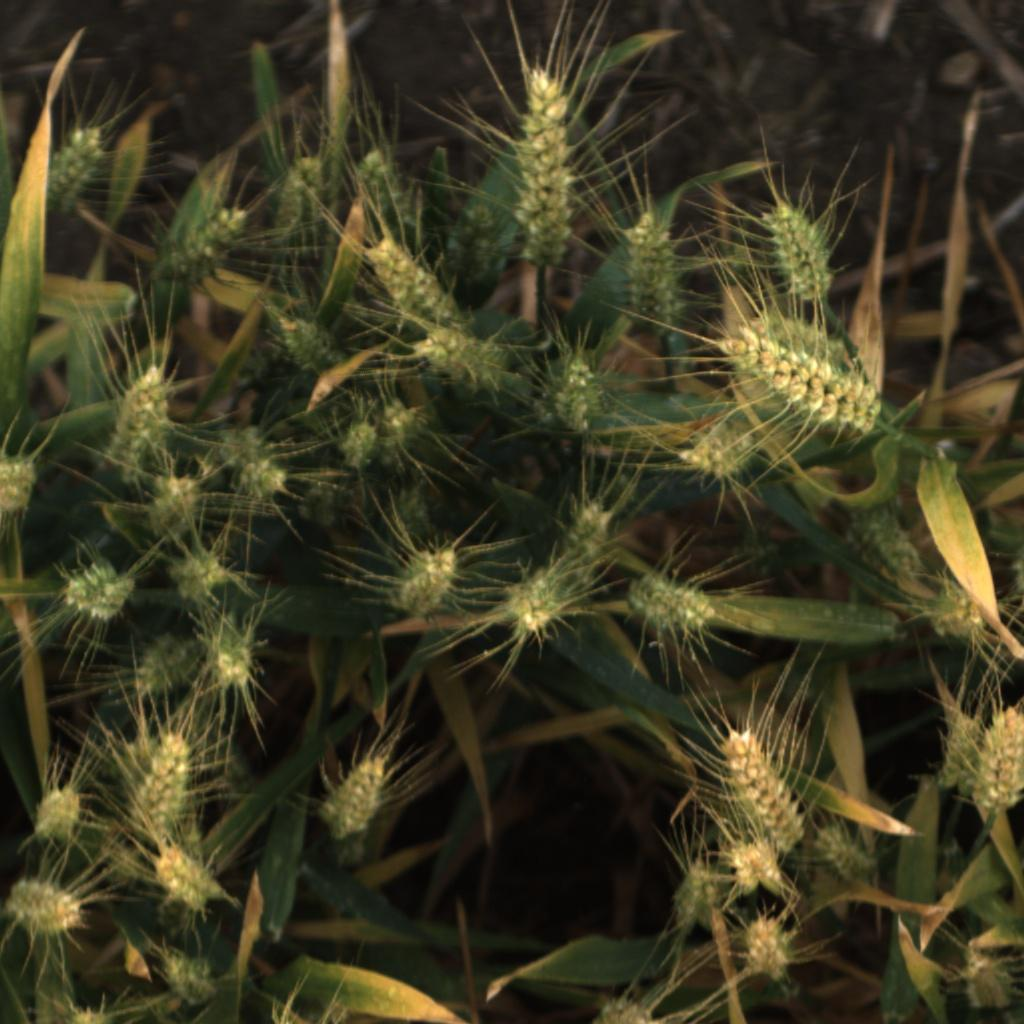0-0: (708, 327, 890, 436), (506, 59, 582, 278), (709, 722, 815, 835), (366, 236, 476, 339), (756, 198, 853, 304), (614, 205, 688, 343), (103, 363, 175, 485), (164, 194, 255, 287), (125, 729, 194, 845), (31, 123, 110, 223), (264, 151, 333, 263), (842, 504, 924, 591), (409, 320, 509, 391), (746, 305, 851, 372), (628, 571, 716, 645), (142, 844, 231, 917), (352, 144, 415, 247), (494, 566, 570, 651), (542, 346, 610, 438), (216, 421, 287, 505), (557, 499, 624, 587), (435, 200, 497, 295), (138, 943, 221, 1012), (668, 847, 732, 934), (388, 545, 459, 622), (976, 701, 1024, 814), (320, 758, 386, 840), (59, 557, 136, 624), (683, 414, 754, 486), (275, 312, 349, 381), (809, 820, 879, 891), (923, 581, 1005, 641), (128, 631, 199, 700), (137, 468, 205, 540), (739, 912, 803, 988), (162, 546, 239, 609), (5, 876, 83, 938), (932, 704, 982, 799), (727, 833, 791, 903), (956, 945, 1020, 1015), (113, 737, 169, 817), (206, 613, 260, 691), (381, 483, 436, 549), (290, 469, 345, 534), (377, 391, 438, 448), (0, 448, 39, 519), (33, 787, 84, 840), (584, 989, 656, 1024), (341, 409, 381, 471), (101, 844, 150, 889), (331, 830, 370, 871), (64, 1005, 115, 1024)
